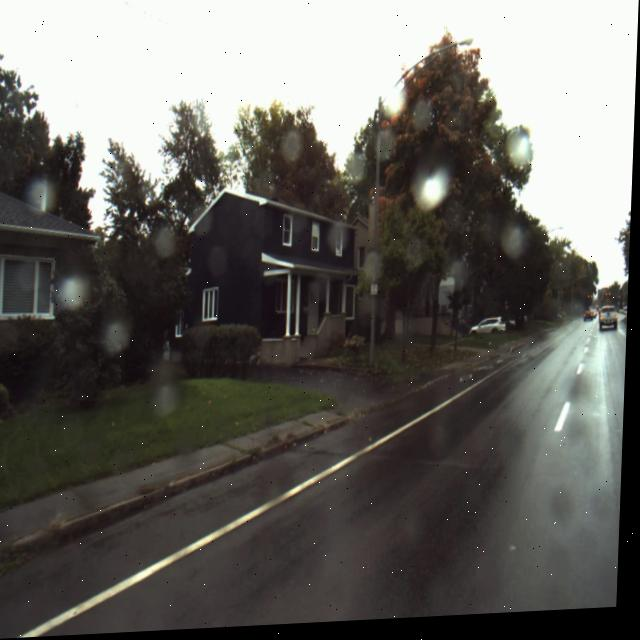car: (472, 321, 509, 343), (602, 312, 621, 340), (586, 315, 596, 328)
